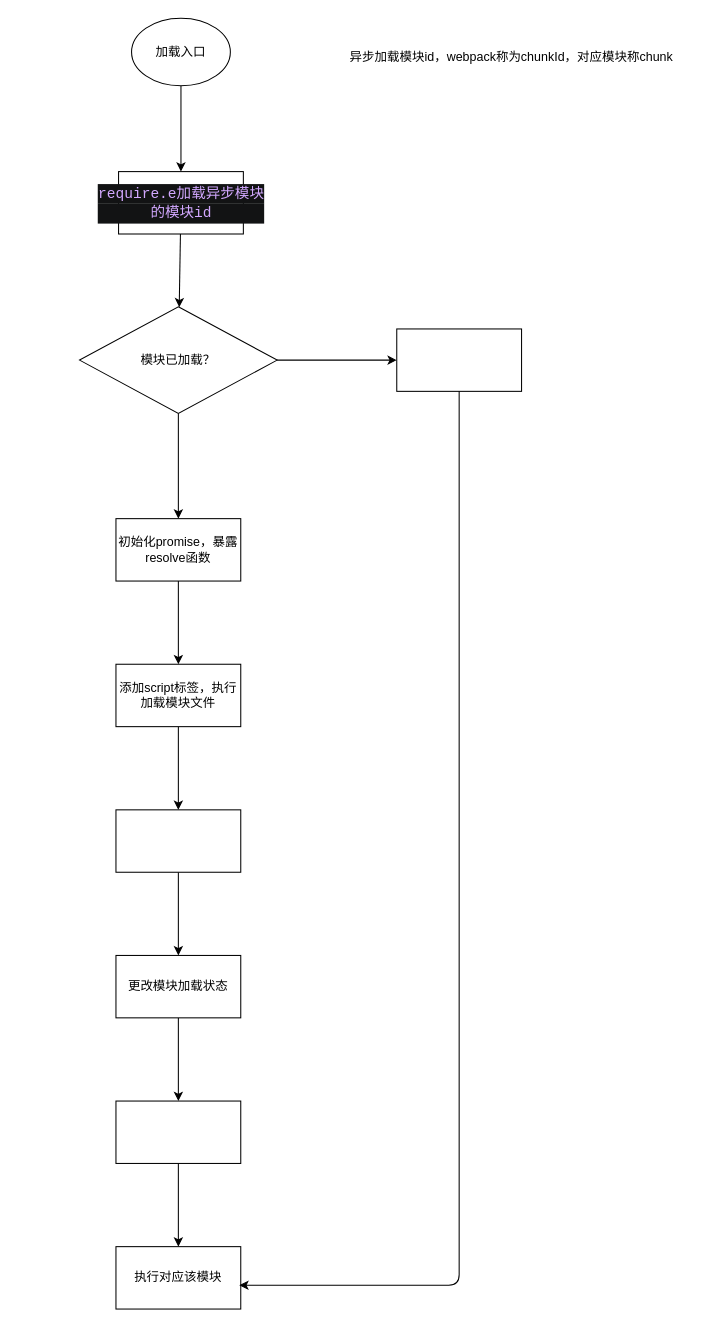
The diagram is 701 pixels wide and 1328 high, and some of its shapes have lost their labels. Each missing label, with the box of its shape:
执行 webpackJsonpCallback（模块加载完成回调）: (115, 809, 241, 872)
返回promise: (115, 1100, 241, 1163)
返回模块: (396, 328, 522, 391)
